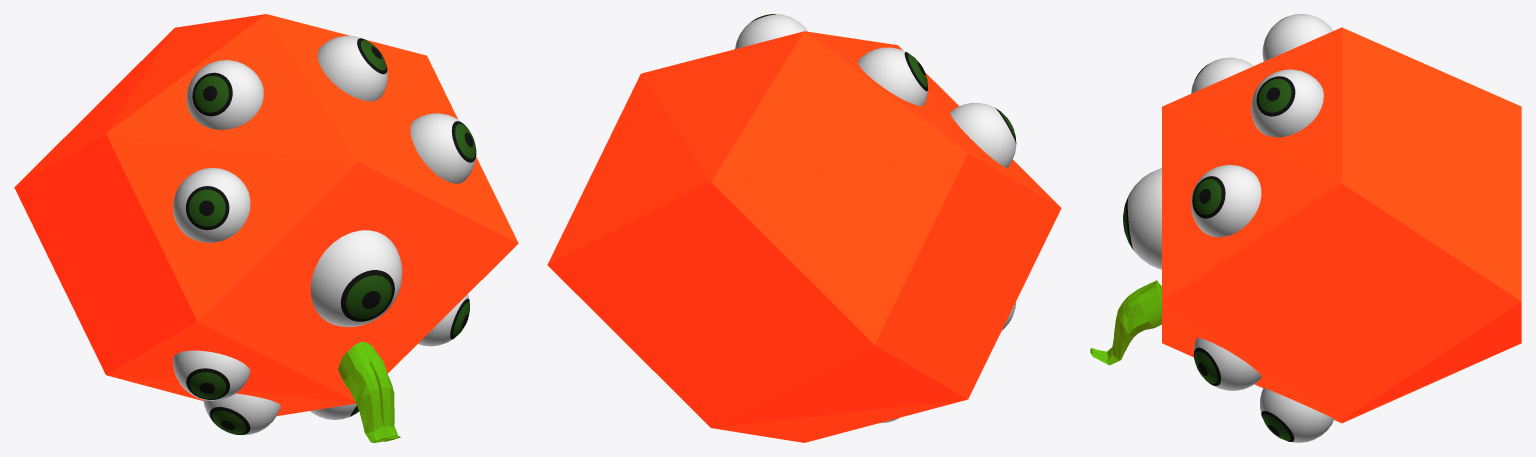
File: HEP.FBX
3 renders of one model, left to right at view 1: azimuth 30°, elevation 25°; view 2: azimuth 150°, elevation 25°; view 3: azimuth 270°, elevation 25°, orthographic. The views are drawn at different scales.
Parts seen in each view (by area): view 1: pCube1, Sphere002, Sphere004, Sphere009, Box002, Sphere003, Sphere010, Sphere006, Sphere008, Sphere005, Sphere007; view 2: pCube1, Sphere009, Sphere004, Sphere010; view 3: pCube1, Sphere003, Sphere010, Sphere002, Box002, Sphere007, Sphere005, Sphere009, Sphere004.
Boxes of the visible parts, box(x1,y1,x2,y2) form: pCube1: box(14, 14, 518, 416); Sphere002: box(310, 230, 402, 326); Sphere004: box(173, 168, 250, 242); Sphere009: box(186, 60, 263, 129); Box002: box(338, 342, 400, 442); Sphere003: box(410, 113, 476, 183); Sphere010: box(317, 35, 387, 101); Sphere006: box(173, 350, 250, 400); Sphere008: box(203, 393, 280, 434); Sphere005: box(418, 294, 469, 346); Sphere007: box(310, 403, 358, 419); pCube1: box(547, 31, 1061, 442); Sphere009: box(858, 47, 928, 105); Sphere004: box(950, 103, 1016, 167); Sphere010: box(735, 14, 807, 48); pCube1: box(1162, 27, 1521, 423); Sphere003: box(1191, 164, 1261, 237); Sphere010: box(1251, 69, 1323, 137); Sphere002: box(1123, 168, 1161, 269); Box002: box(1090, 280, 1161, 365); Sphere007: box(1260, 388, 1334, 442); Sphere005: box(1193, 338, 1261, 390); Sphere009: box(1262, 14, 1333, 61); Sphere004: box(1191, 57, 1253, 93).
Size of the model in its own units: 53.72 by 64.58 by 63.78.
